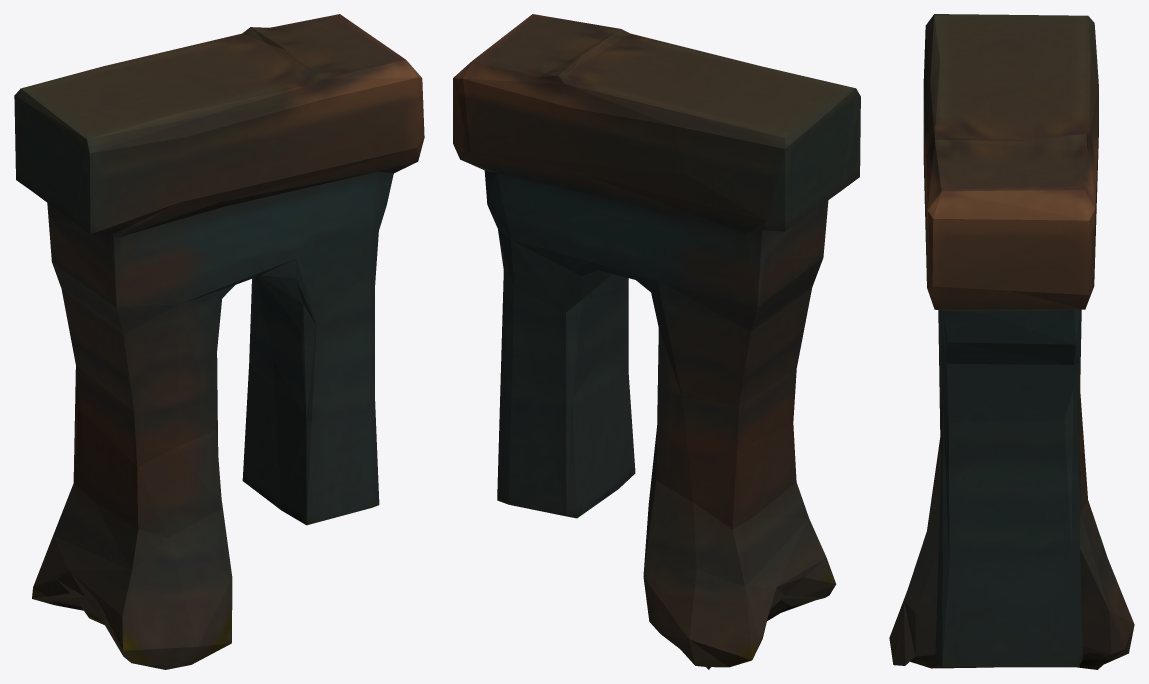
3 views of the same model, side by side, from view 1: azimuth 30°, elevation 25°; view 2: azimuth 150°, elevation 25°; view 3: azimuth 270°, elevation 25° (orthographic). The views are drawn at different scales.
Visible parts, largest first — view 1: geometry_0.009_Baked; view 2: geometry_0.009_Baked; view 3: geometry_0.009_Baked.
Part boxes in pixels (left/top/right/bottom): geometry_0.009_Baked: left=14, top=14, right=424, bottom=669; geometry_0.009_Baked: left=453, top=14, right=860, bottom=669; geometry_0.009_Baked: left=889, top=14, right=1134, bottom=669.
Bounding box in the file's own units: 13.12 × 20.66 × 7.39.
